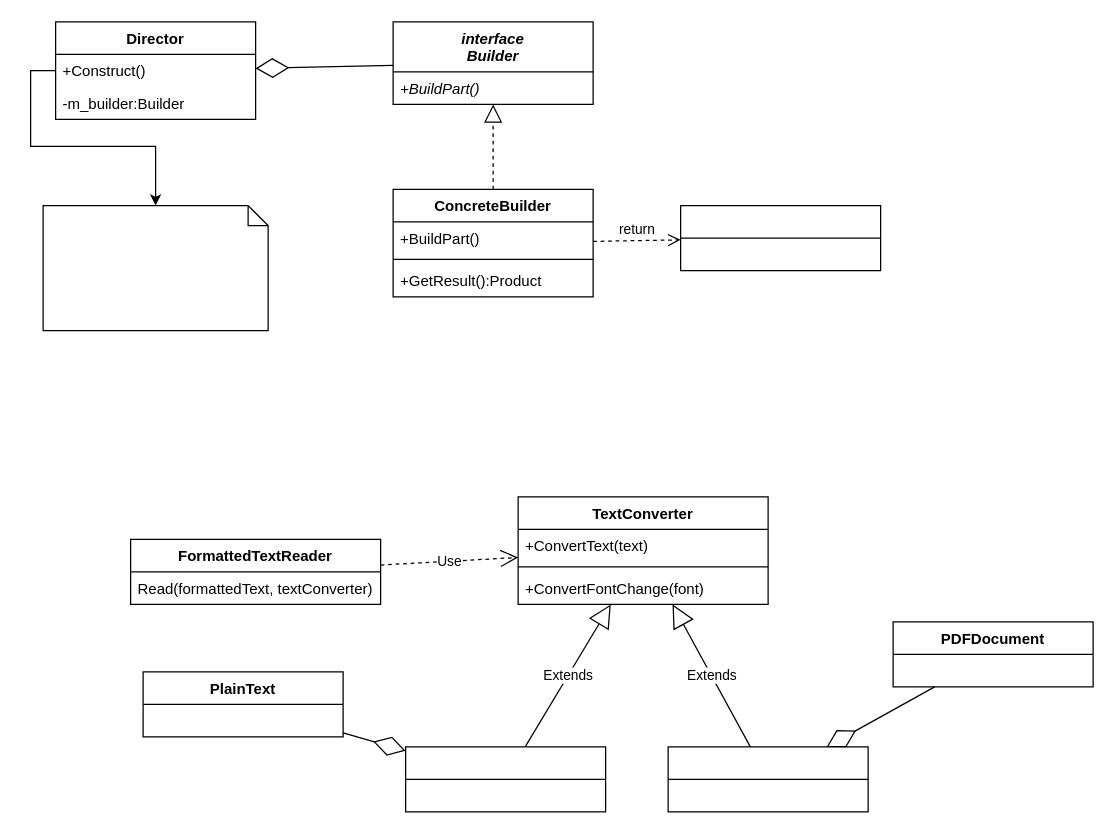
The diagram is 1115 pixels wide and 834 high, and some of its shapes have lost their labels. The centre of each missing label's shape, as x and y in pixels:
"for each item in structure { m_builder.BuildPart(); }" goes at (155,267).
"PDFTextConverter" goes at (767,779).
"PlainTextConverter" goes at (505,779).
"Product" goes at (780,237).
